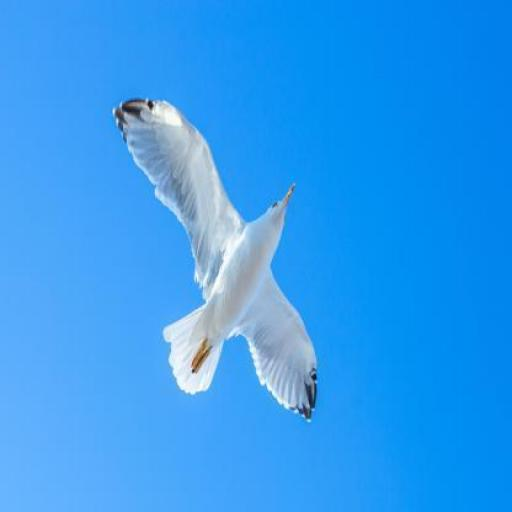bird: (115, 97, 321, 422)
